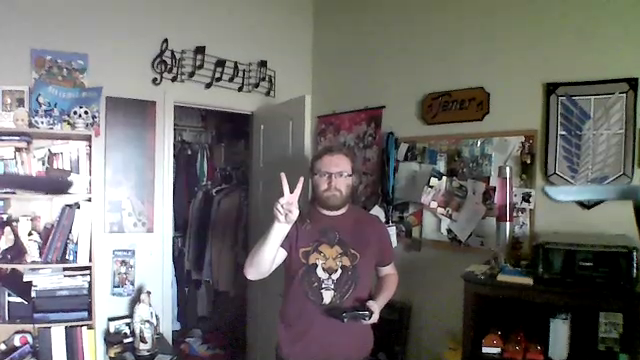peace: (263, 168, 317, 233)
